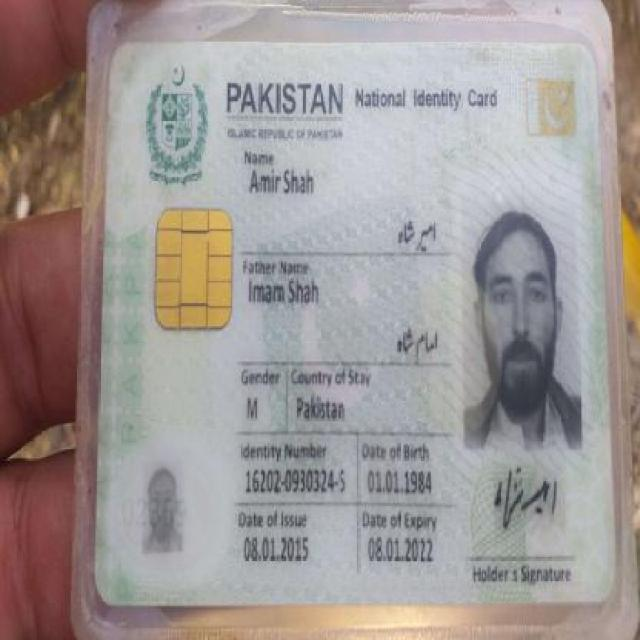Front: (88, 38, 617, 611)
